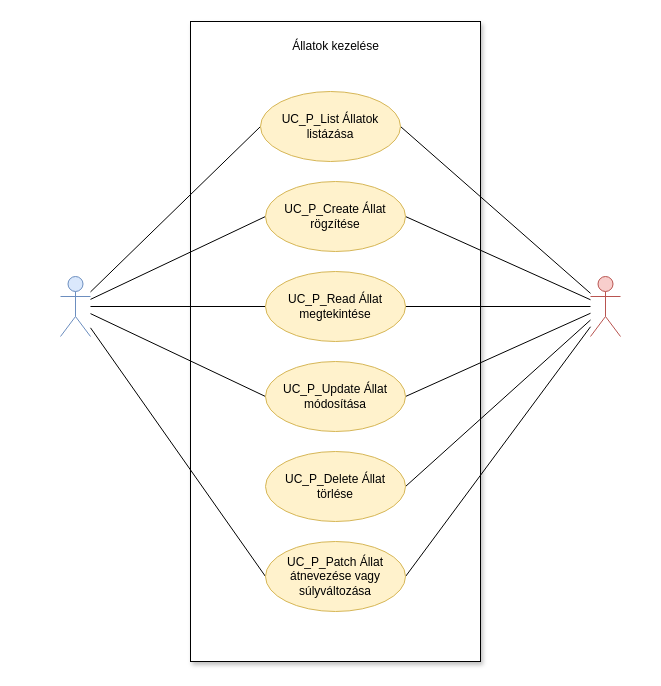
Image size: 661x686. Some labels were removed from this diagram. Each missing label, with the centre of its shape:
"Adminisztrátor" goes at pixel 605 306.
"Általálnos felhasználó" goes at pixel 75 306.
